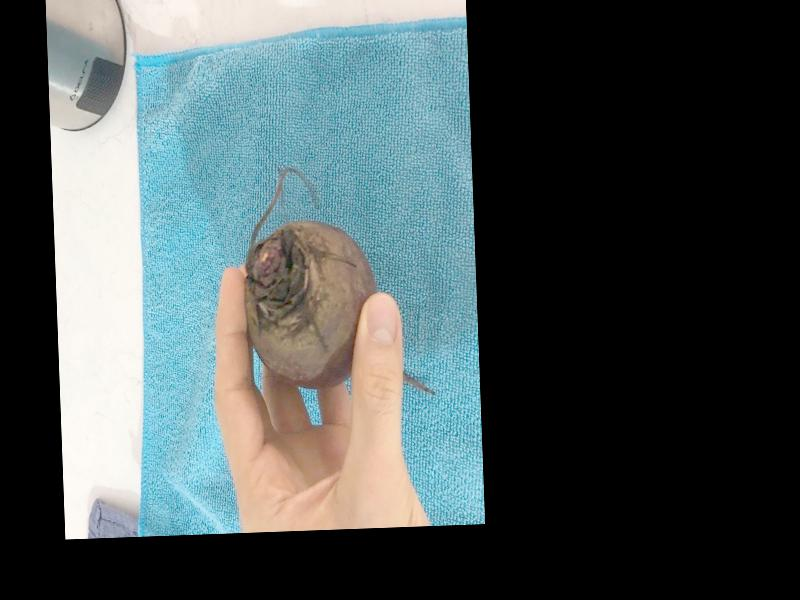Beet: (241, 164, 434, 401)
